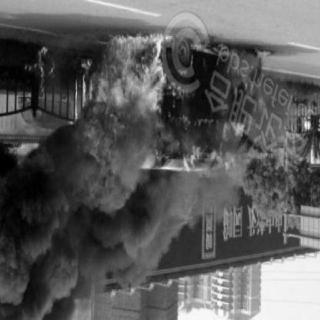Smoke: (73, 202, 183, 296)
